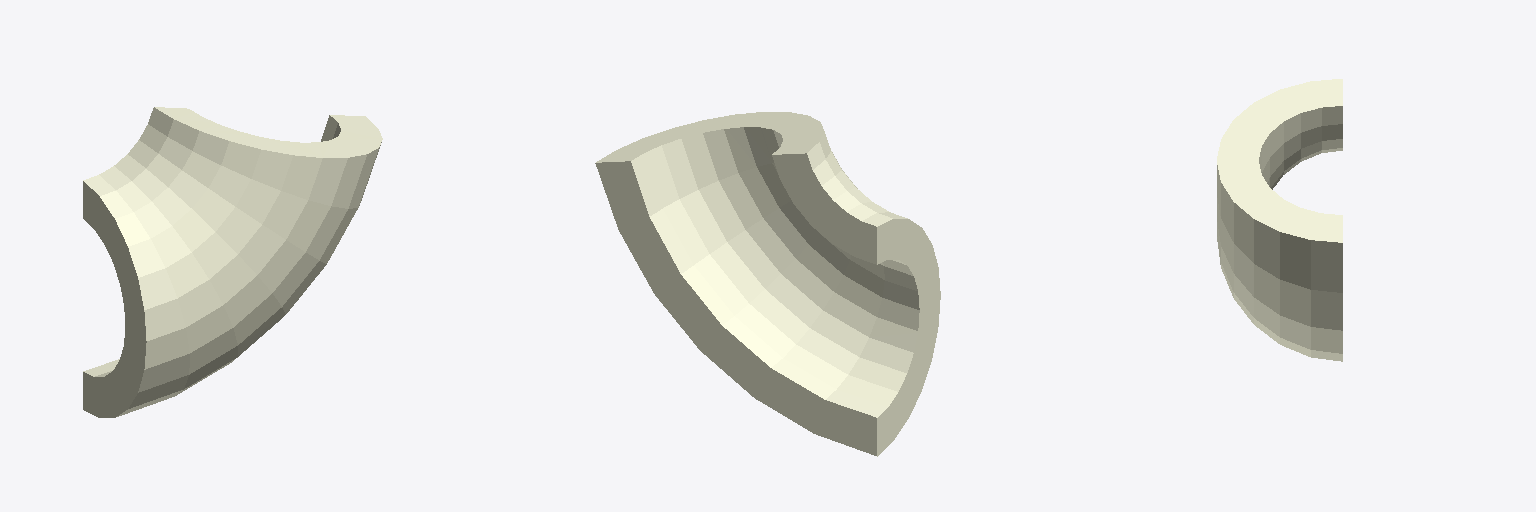
The model's file is section_016.obj.
3 views of the same model, side by side, from view 1: azimuth 30°, elevation 25°; view 2: azimuth 150°, elevation 25°; view 3: azimuth 270°, elevation 25° (orthographic).
Bounding box in the file's own units: 7.71 × 7.47 × 3.